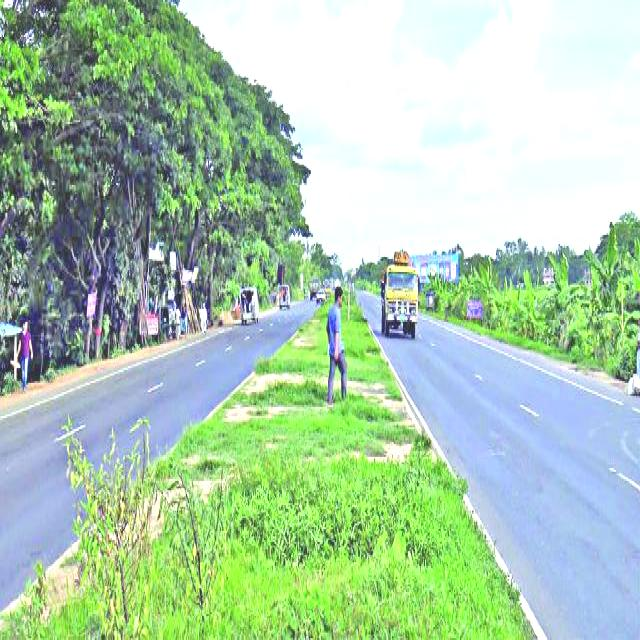TRUCK: (381, 266, 422, 339)
